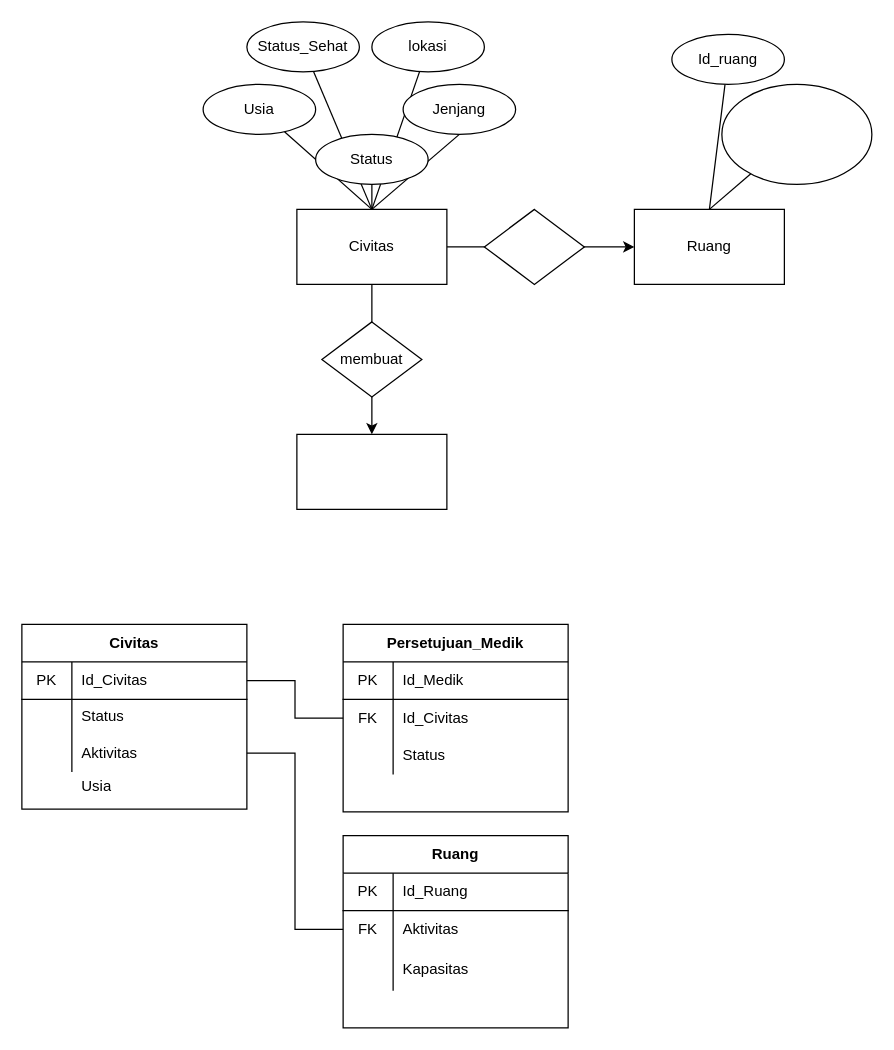
Some shapes in this 894 by 1050 pixel diagram are drawn without their labels. Each missing label, with the centre of its shape:
bekerja di: point 533,246
kapasitas jumlah maksimum Sumber Daya Manusia: point 796,133
Persetujuan Medik: point 371,471
